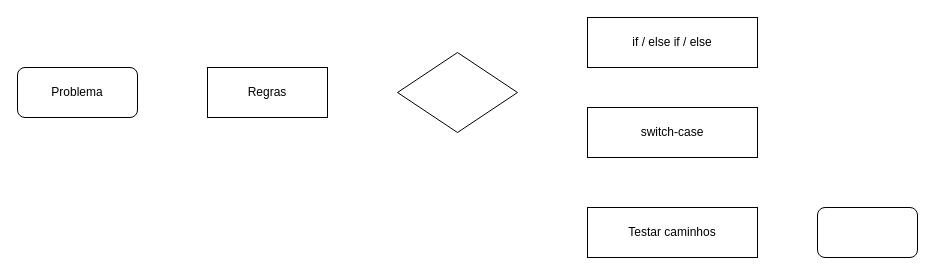
This 935x275 diagram has some shape labels left out. The box of each missing label's shape, as (x1, y1, x2, y2) in pixels:
Decisão: (396, 52, 518, 132)
Java: (816, 206, 918, 258)
